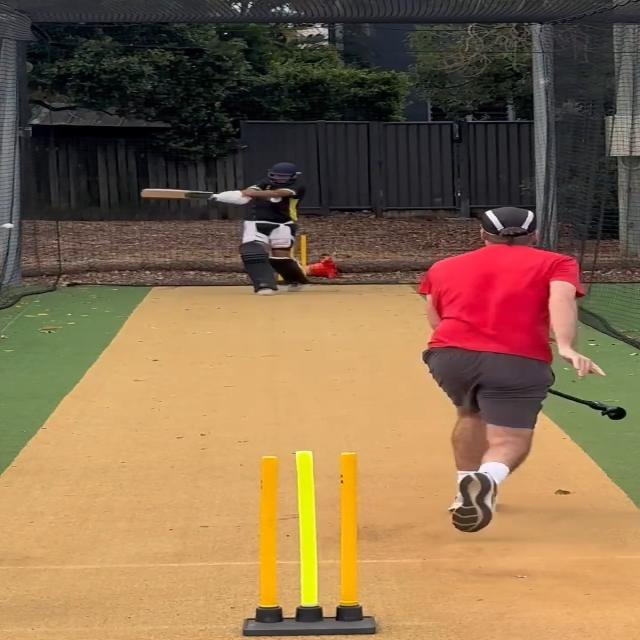ball: (1, 221, 15, 229)
stump: (244, 450, 375, 638)
